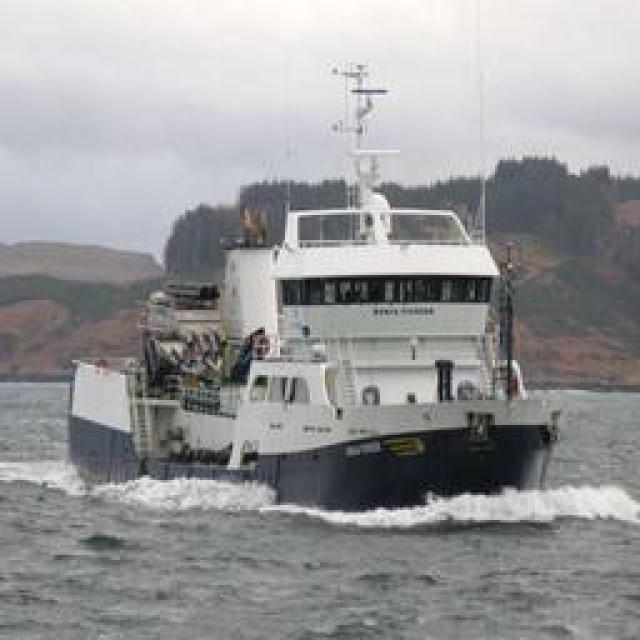Ship: (86, 159, 566, 499)
